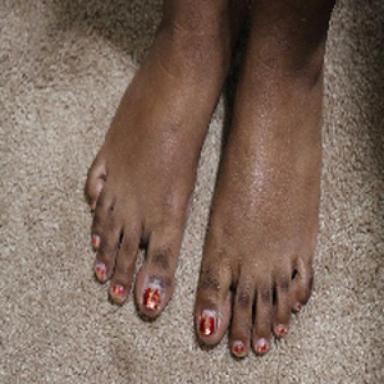normal skin: (196, 0, 333, 351), (85, 0, 230, 307)
